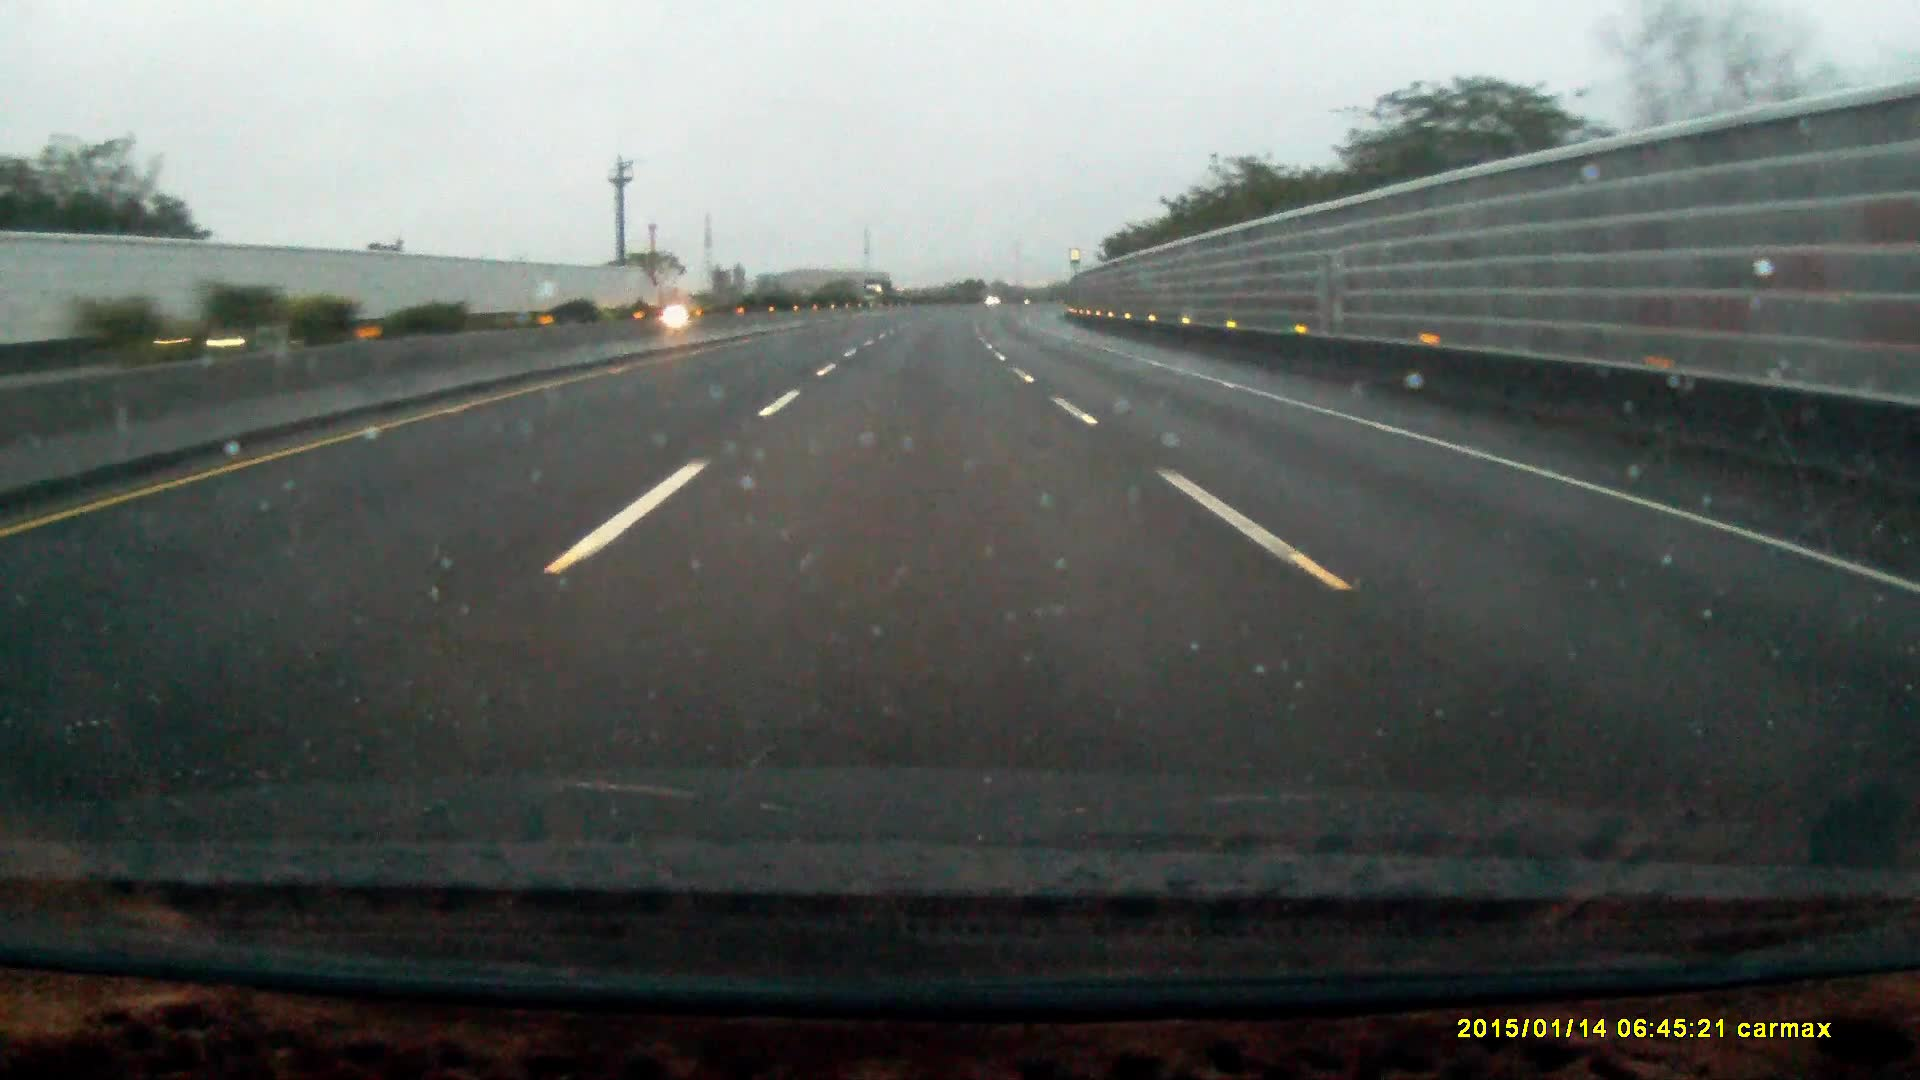vehicle: (865, 276, 894, 305)
